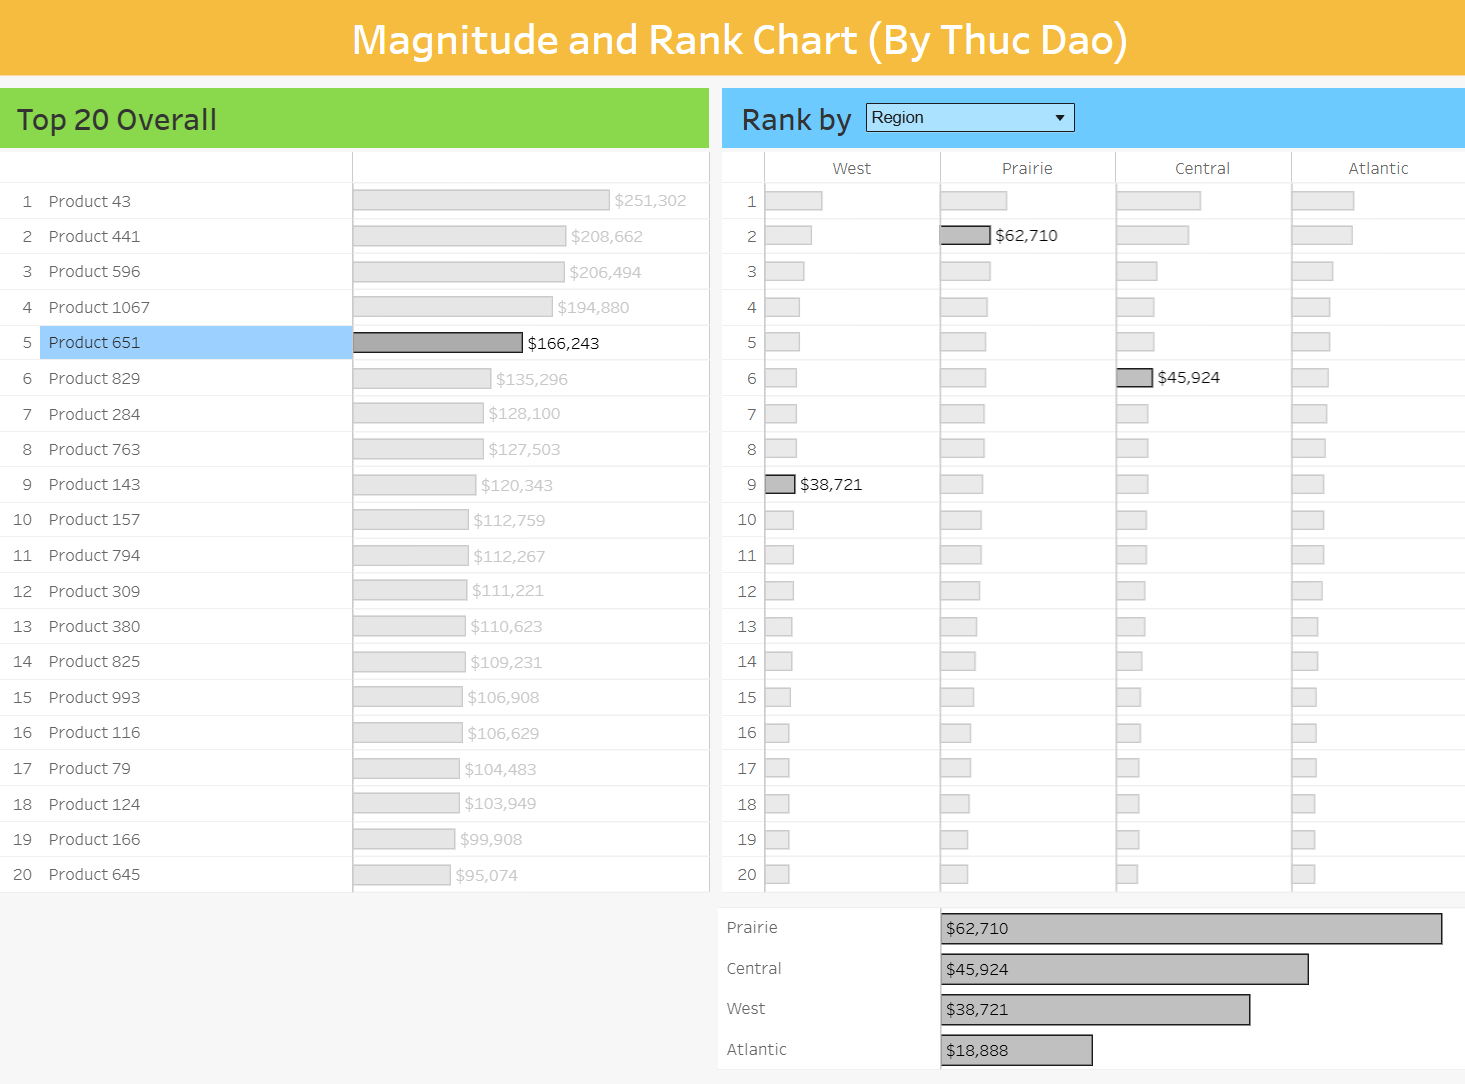

The dashboard page shown, as its layout file describes it:
{"tool":"tableau","page":{"name":"Magnitude and Rank Chart","canvas":[1000,800],"ordinal":1},"visuals":[{"type":"title","box":[8,8,984,55]},{"type":"worksheet","title":"Top 20 Overall","mark":"Automatic","rows":["Product Name"],"cols":["Calculation_5621225095644766","Sales"],"box":[8,63,479.2,544.9]},{"type":"worksheet","title":"Rank by","mark":"Automatic","cols":["Calculation_3471225094359462","Sales"],"box":[487.2,63,504.9,545]},{"type":"parameter","param":"[Parameters].[Parameter 1]","box":[618,76,195,37]},{"type":"worksheet","title":"QuickCompare","mark":"Automatic","rows":["Product Name","Calculation_3471225094359462"],"cols":["Sales"],"box":[488,613,500,149]}]}

Visuals, with their boxes on the page's 1000x800 design canvas (x1, y1, x2, y2). These are canvas units, not pixel positions in the 1465x1084 screenshot, which may show the page scaled, cropped or inside an application window:
title: 8/8/992/63
"Top 20 Overall" worksheet: 8/63/487/608
"Rank by" worksheet: 487/63/992/608
parameter: 618/76/813/113
"QuickCompare" worksheet: 488/613/988/762
